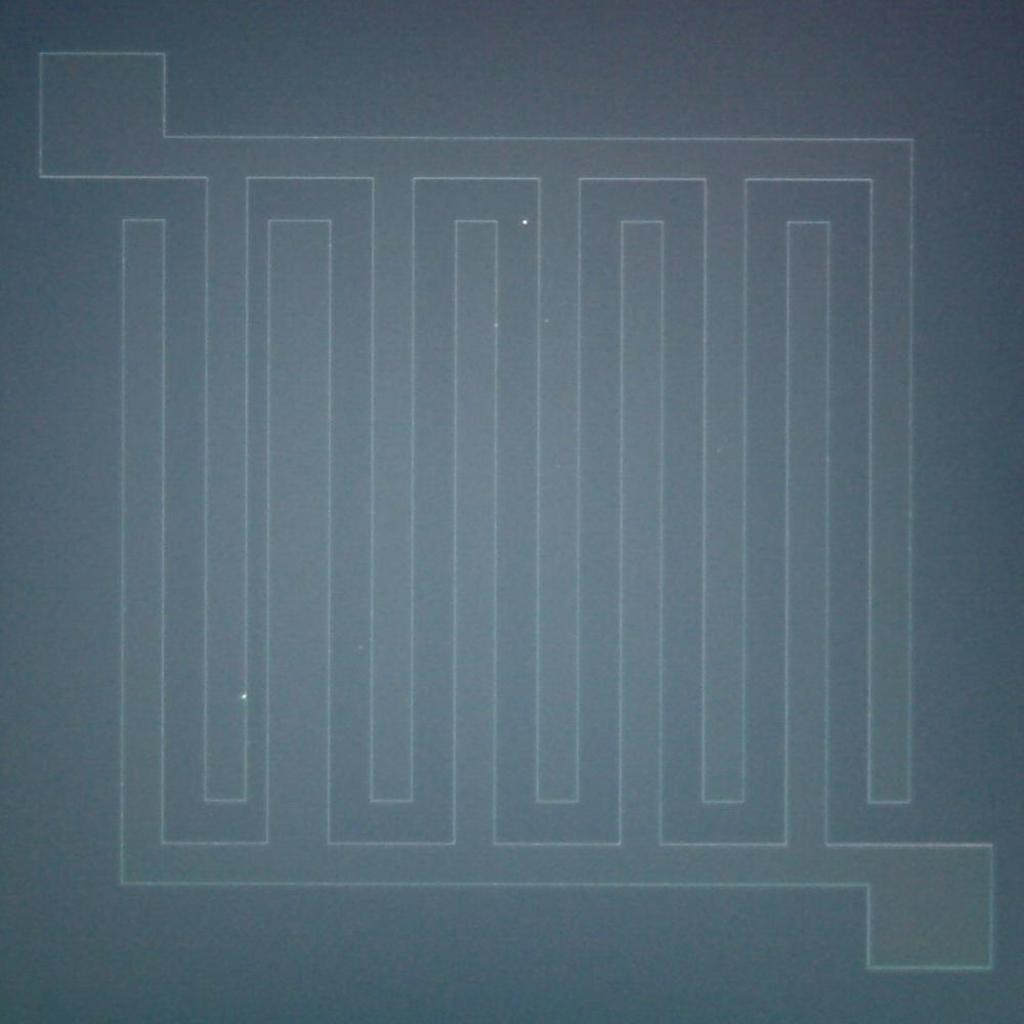dot: (522, 219, 528, 224), (242, 694, 246, 699), (545, 318, 549, 322)
